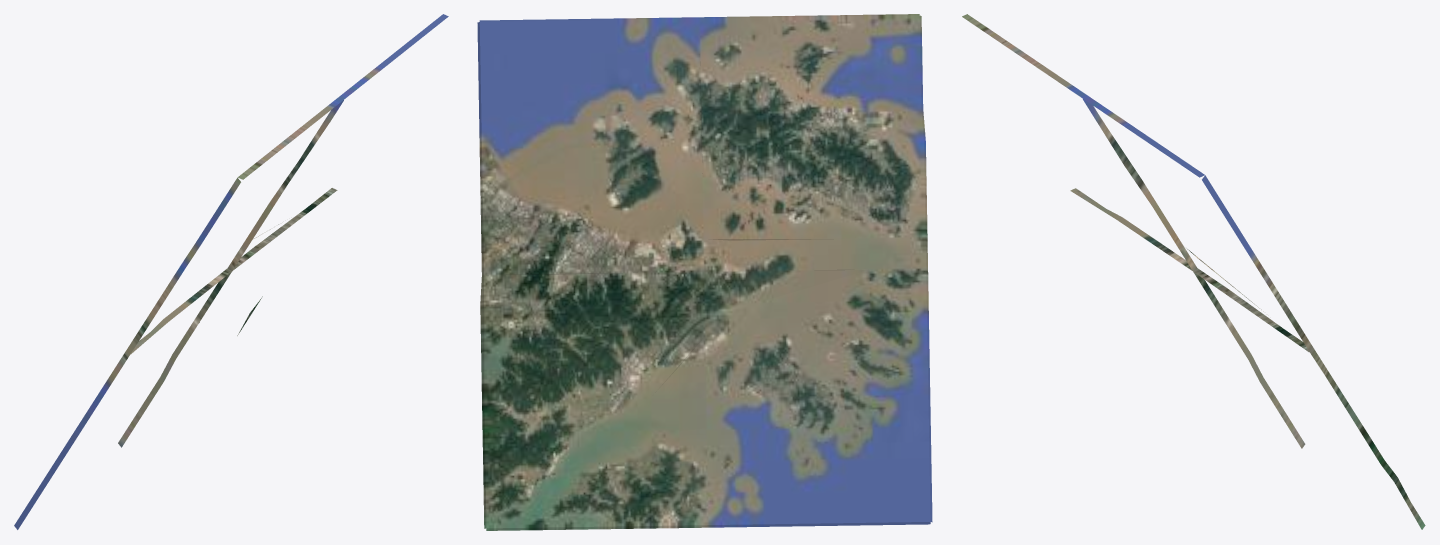
3 renders of one model, left to right at view 1: azimuth 30°, elevation 25°; view 2: azimuth 150°, elevation 25°; view 3: azimuth 270°, elevation 25°, orthographic. The views are drawn at different scales.
Bounding box in the file's own units: 79154 × 68629 × 70044.
1 material, 1 textured.
